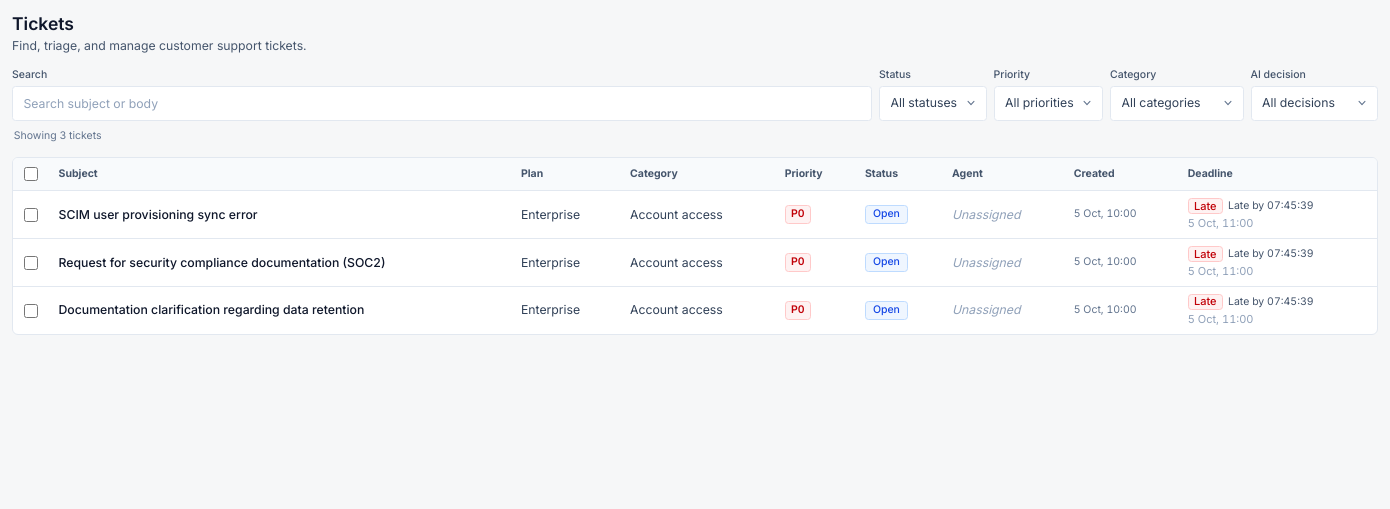
Test: Bulk Selection Identity and Reordering Safety › Requirement 1 & 2: selects two specific ticket IDs and bulk claim sends exactly those two IDs to the API
The image size is (1390, 509).
// Select T-1001 and T-1002
Click the checkbox named "Select T-1001" at (30, 215), box [24,208,38,222]
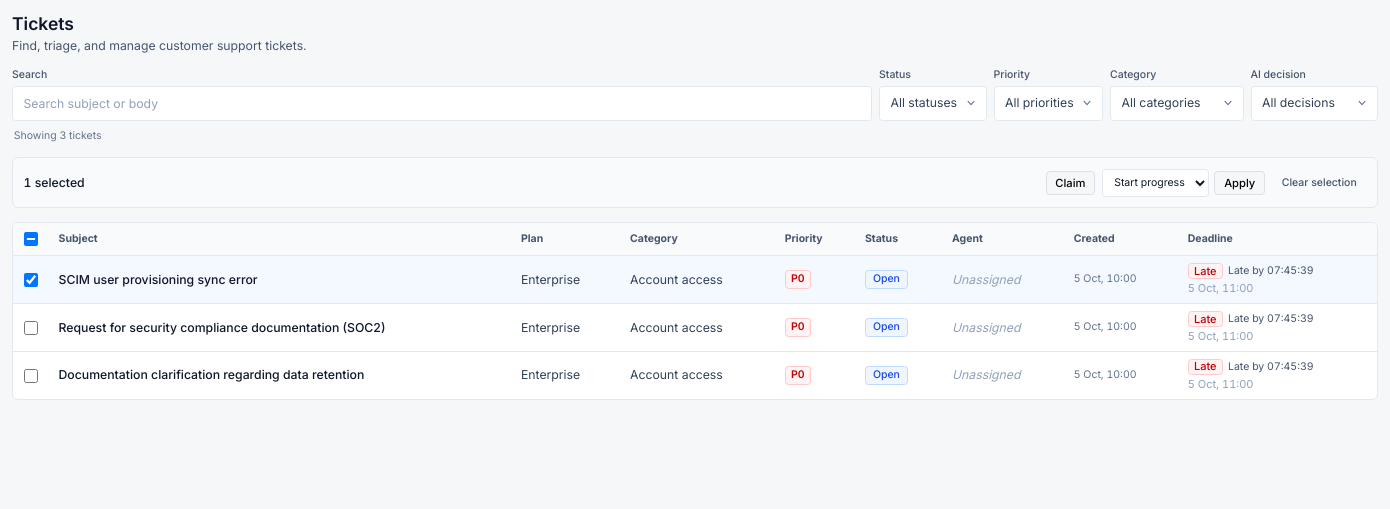
Click the checkbox named "Select T-1002" at (30, 328), box [24,321,38,335]
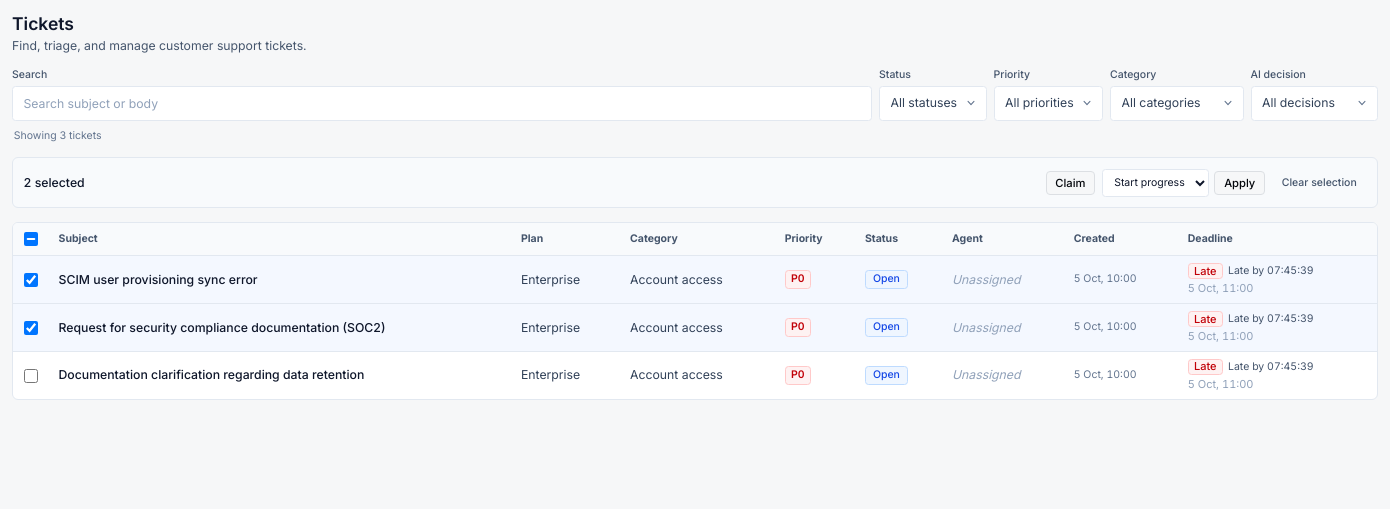
// Click Claim in BulkActionBar
Click the button "Claim" at (1070, 183), box [1046,170,1095,195]
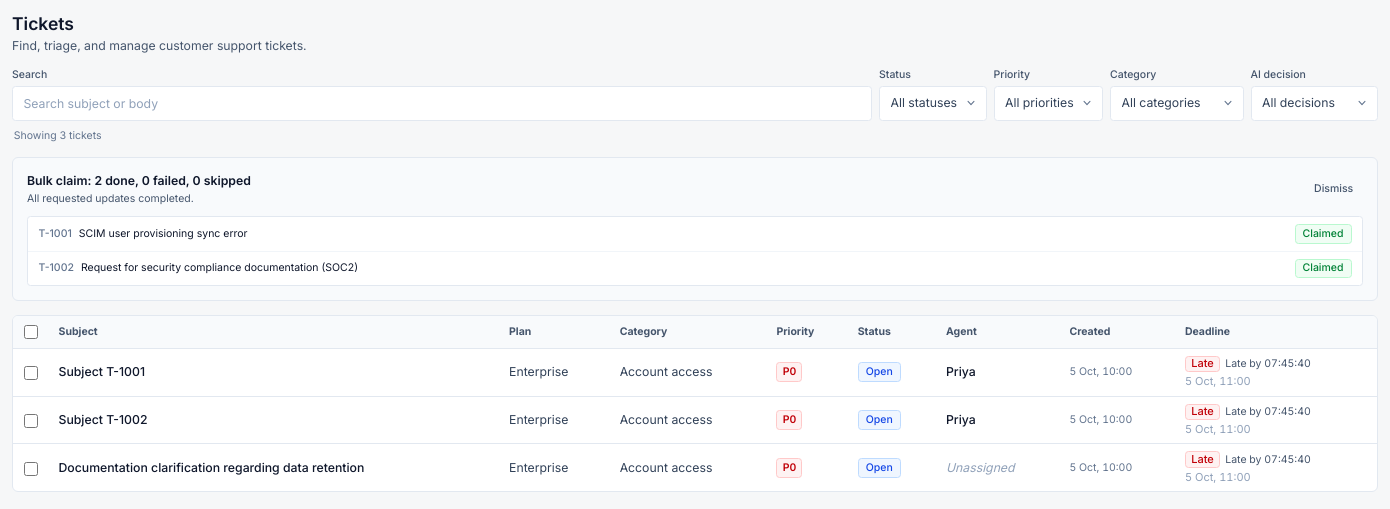
Check: the text "T-1001" is shown, box [38,227,72,241]
Check: the text "T-1002" is shown, box [38,261,74,275]
